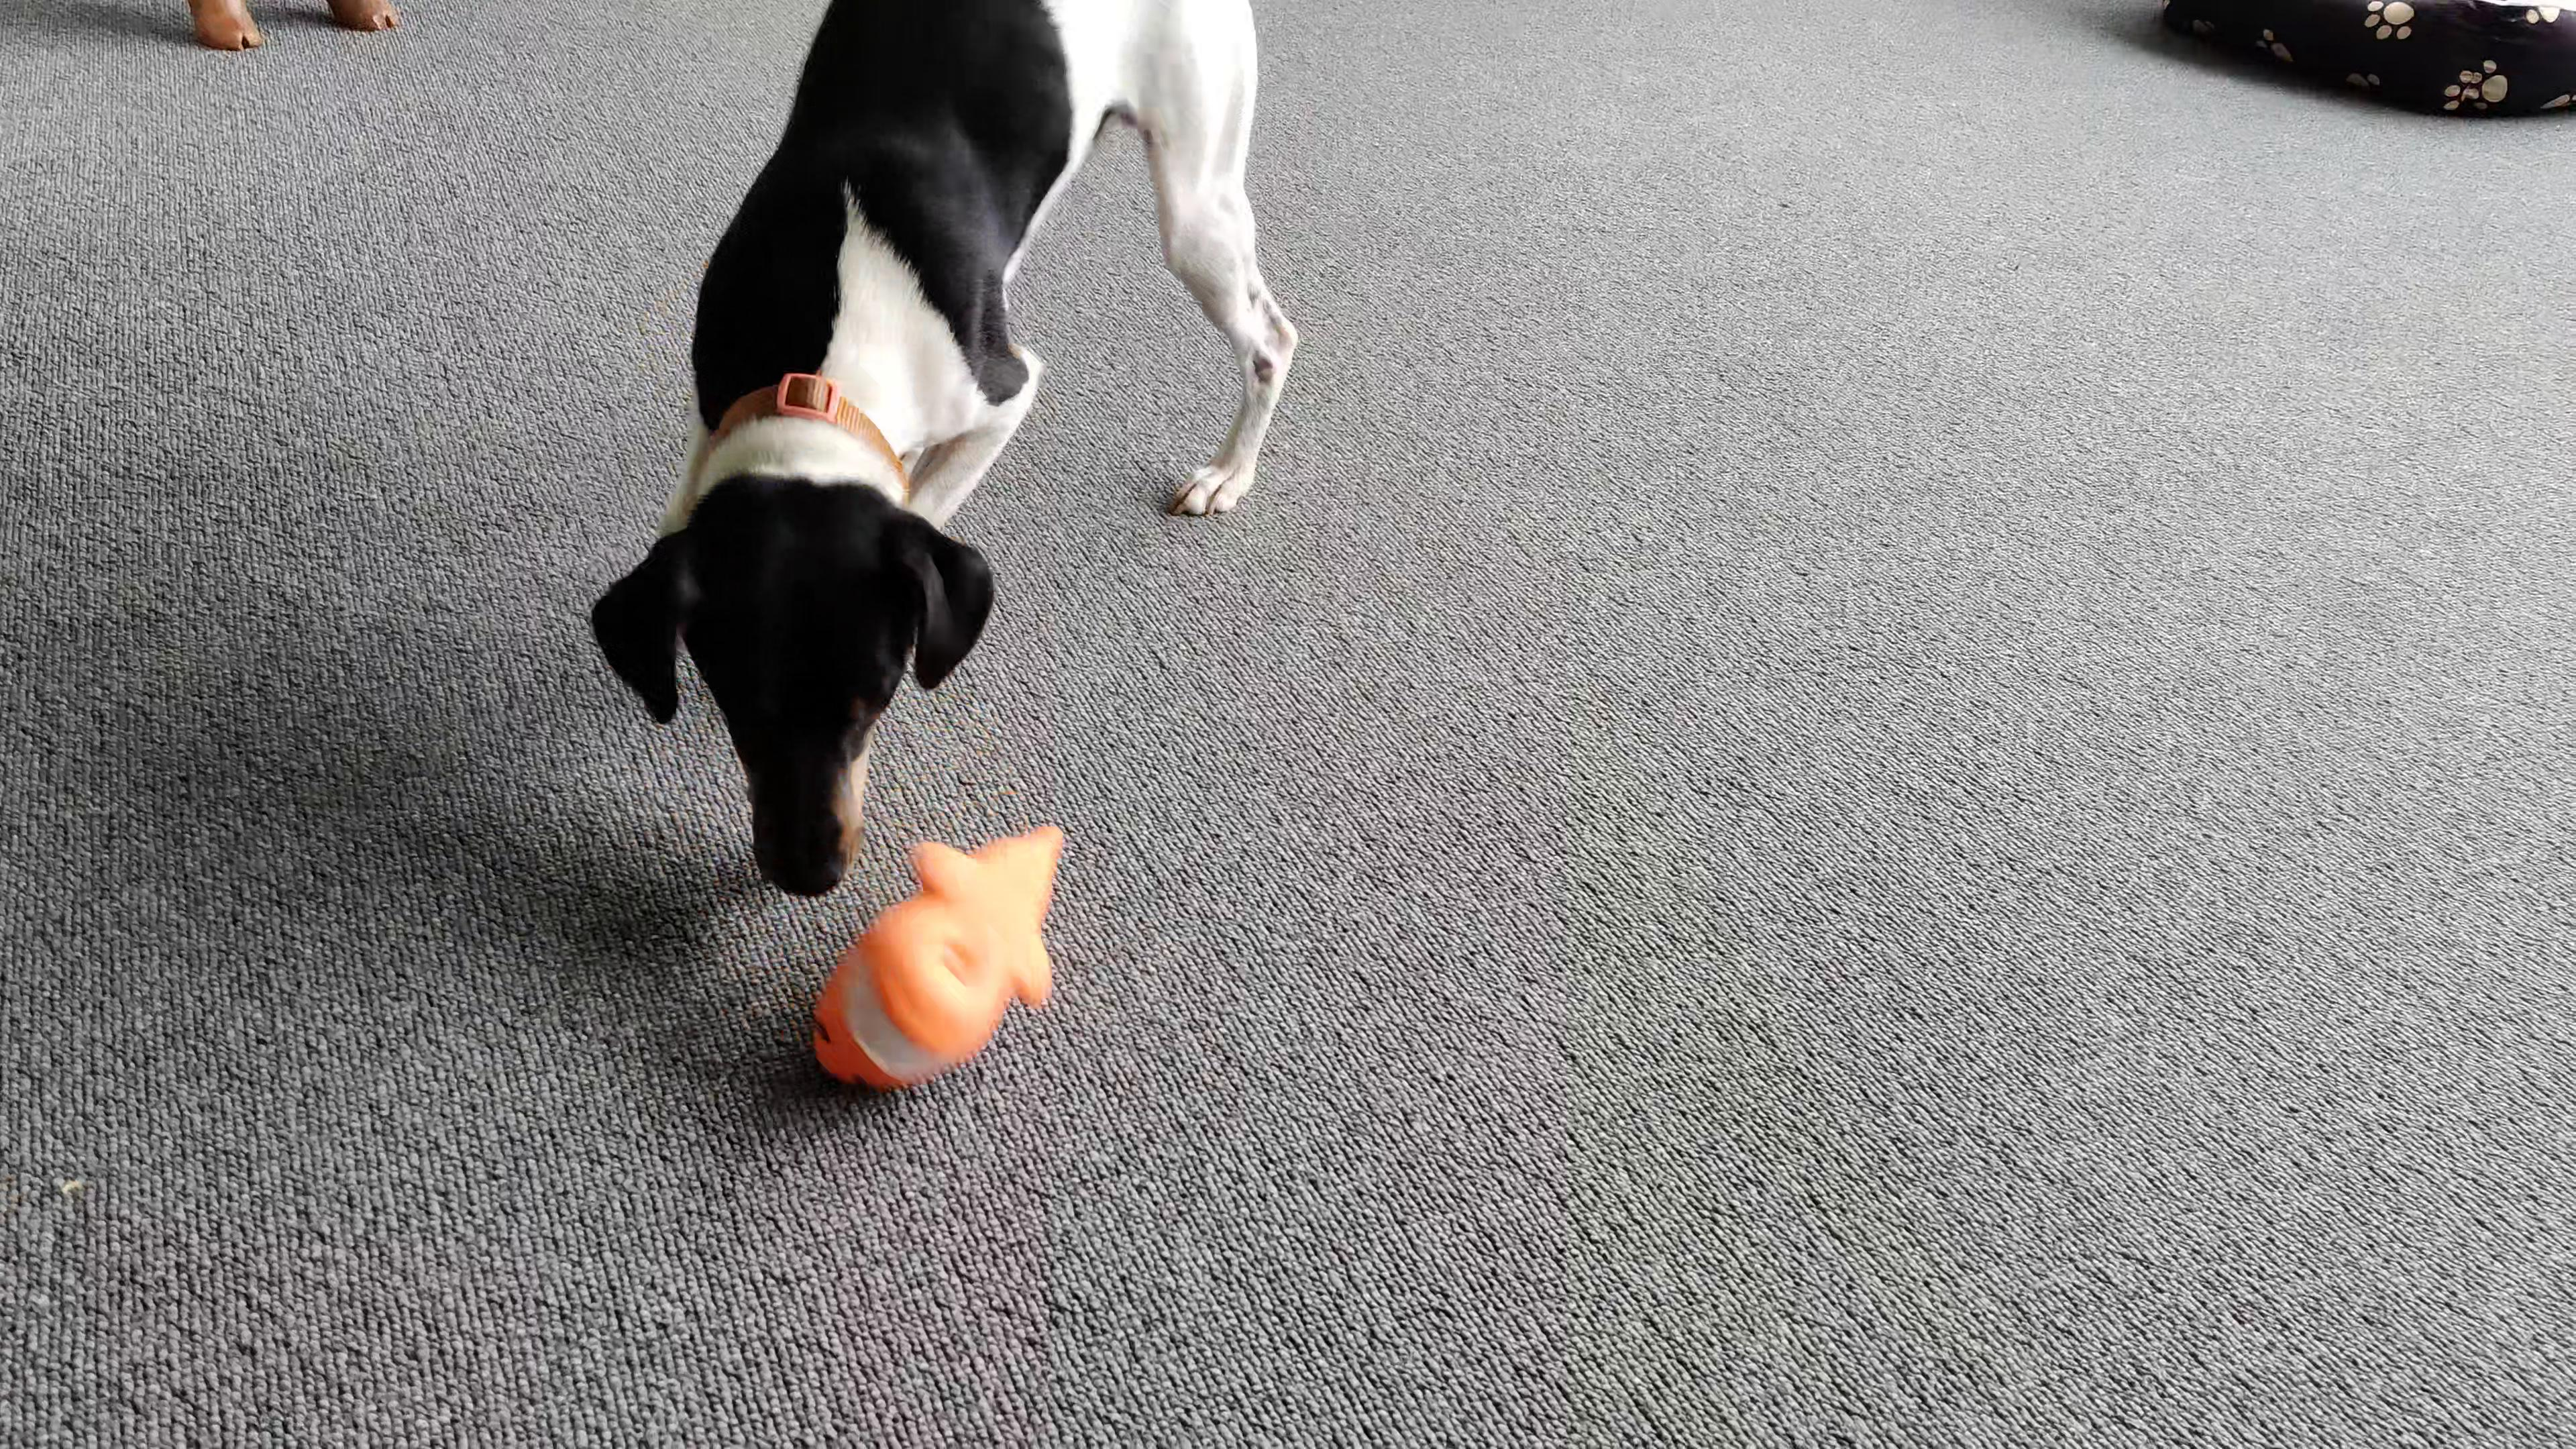Dog: (559, 0, 1336, 908)
